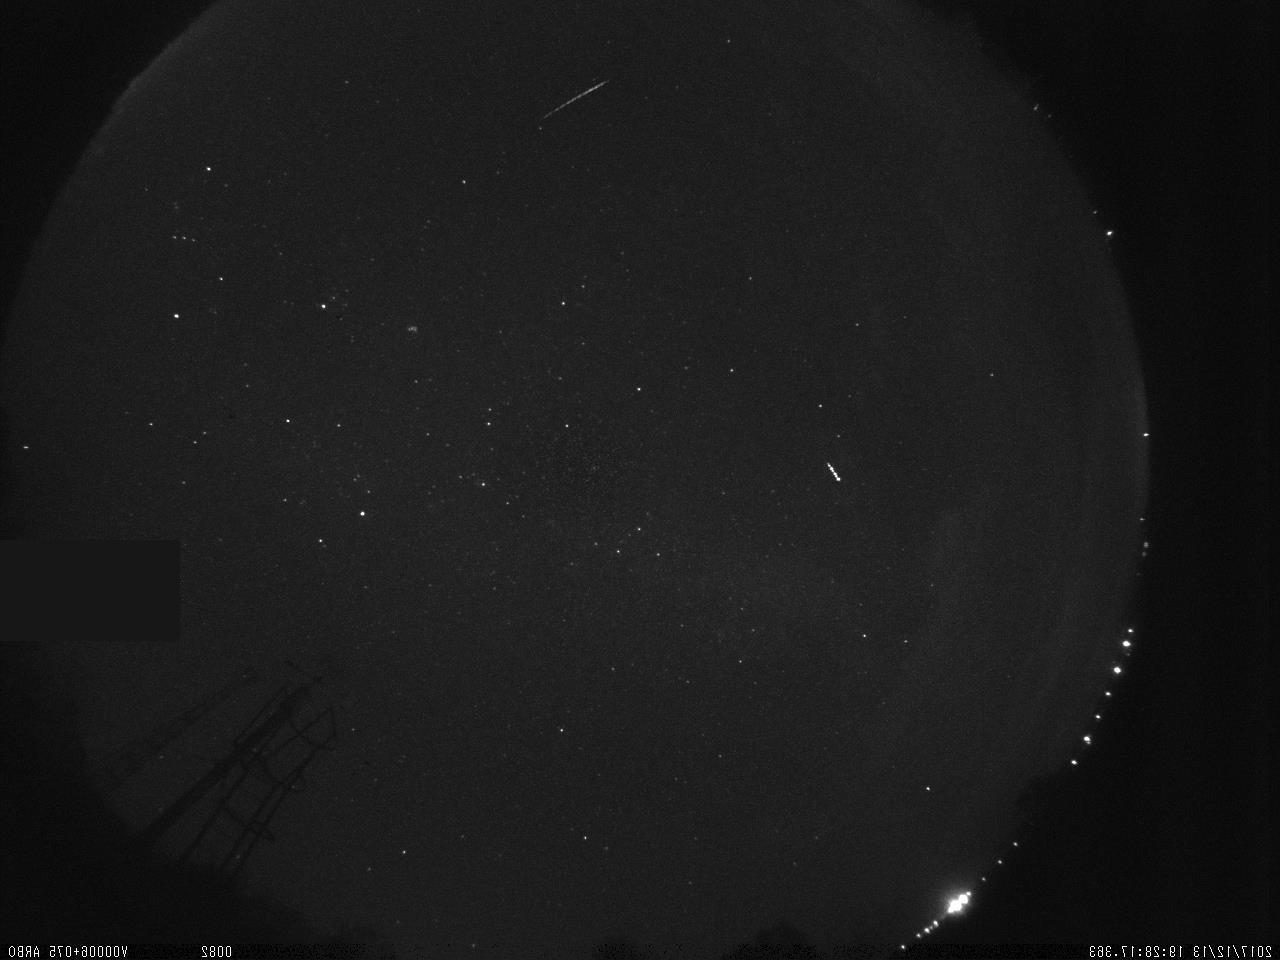meteor: (524, 75, 618, 136)
satelite: (824, 453, 842, 488)
